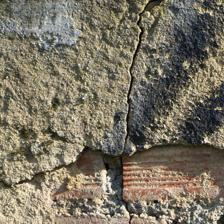Crack: (116, 1, 158, 156), (8, 141, 122, 193), (121, 136, 224, 170)
